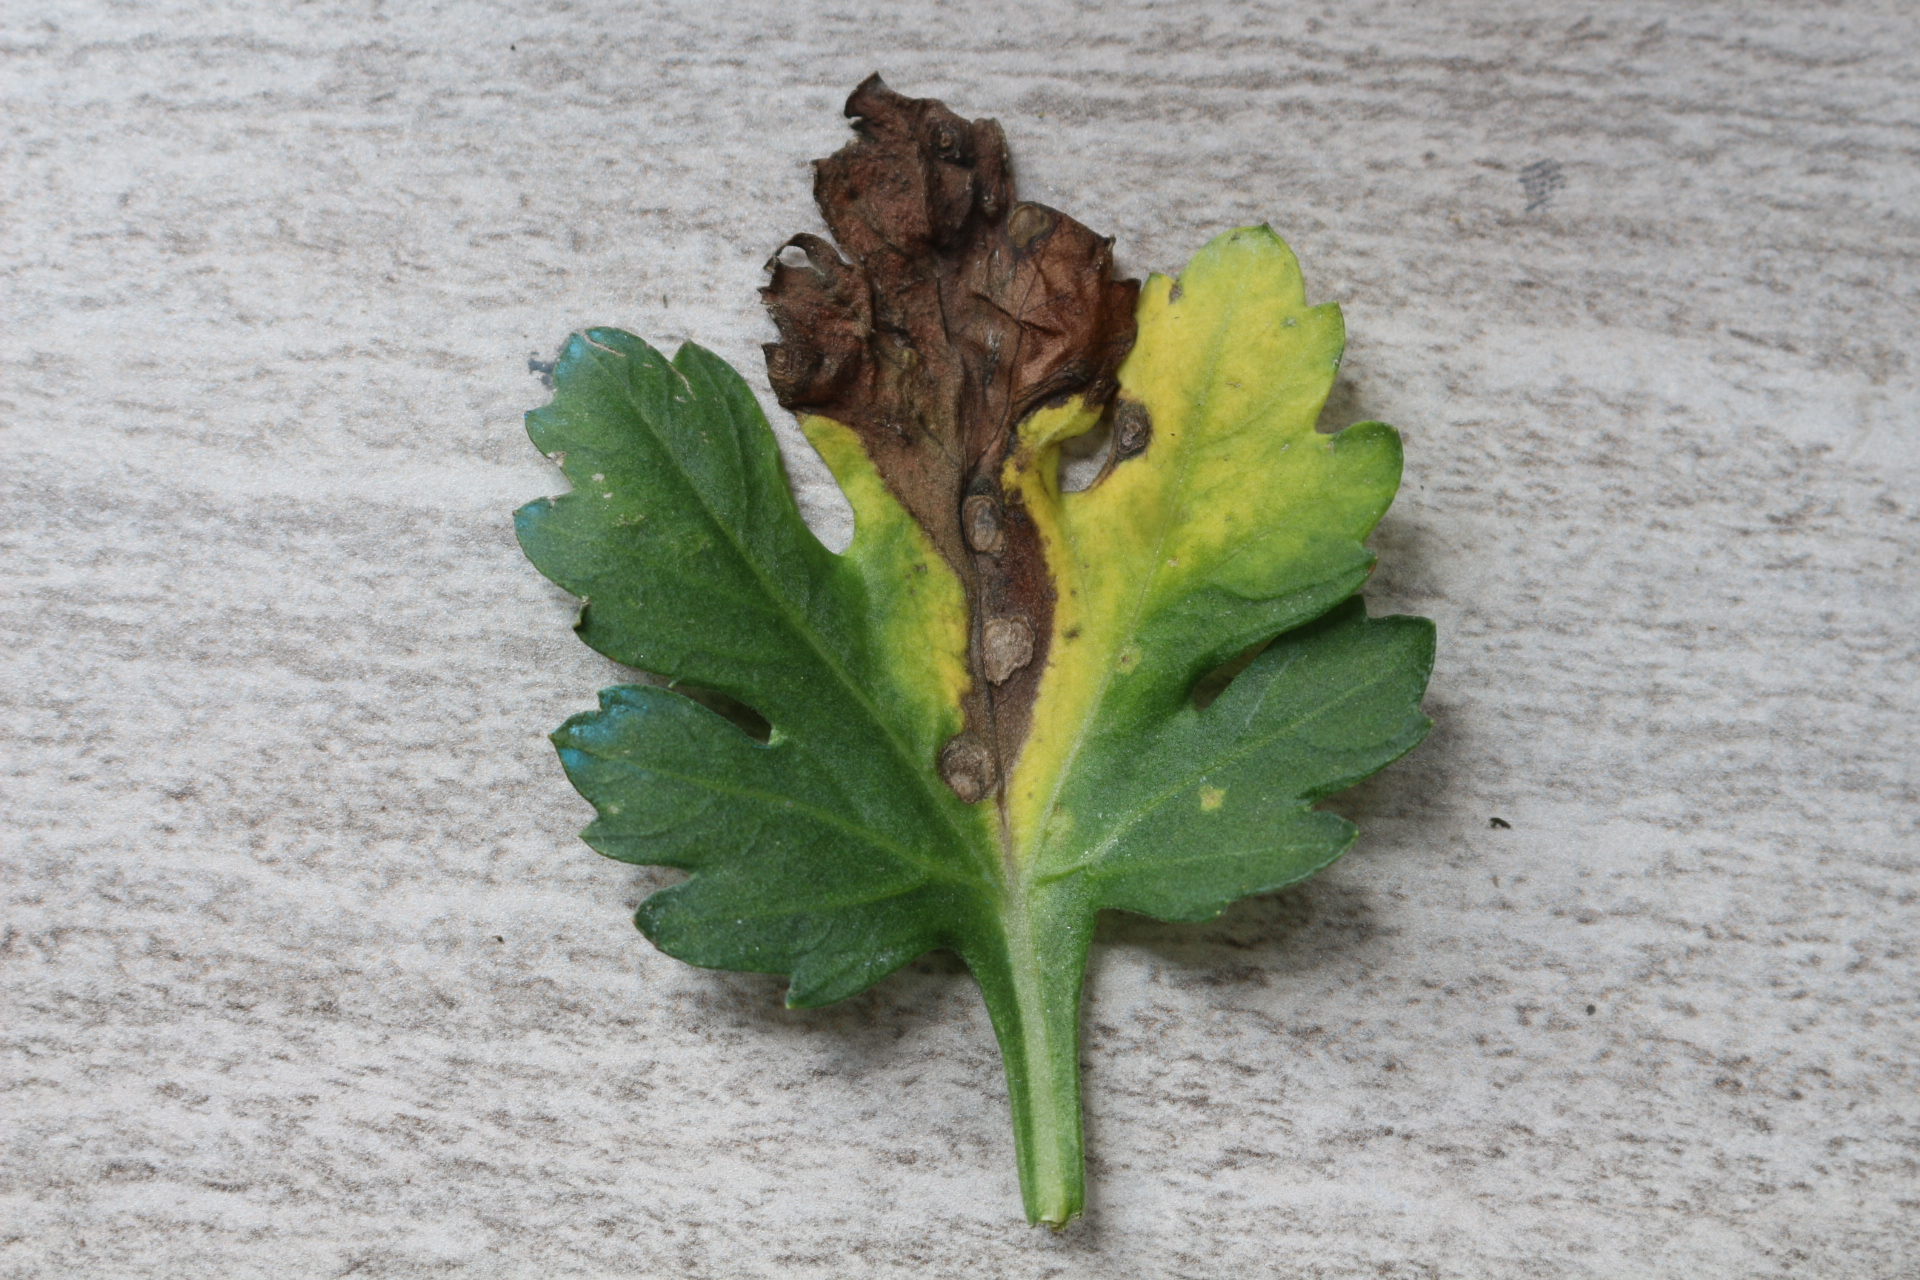namsung: (1196, 781, 1233, 819)
